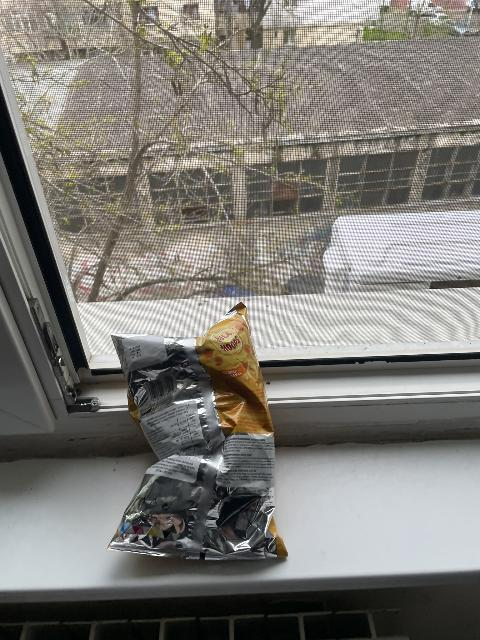Chio Hula Hoops Cheese 70g: (106, 309, 291, 560)
